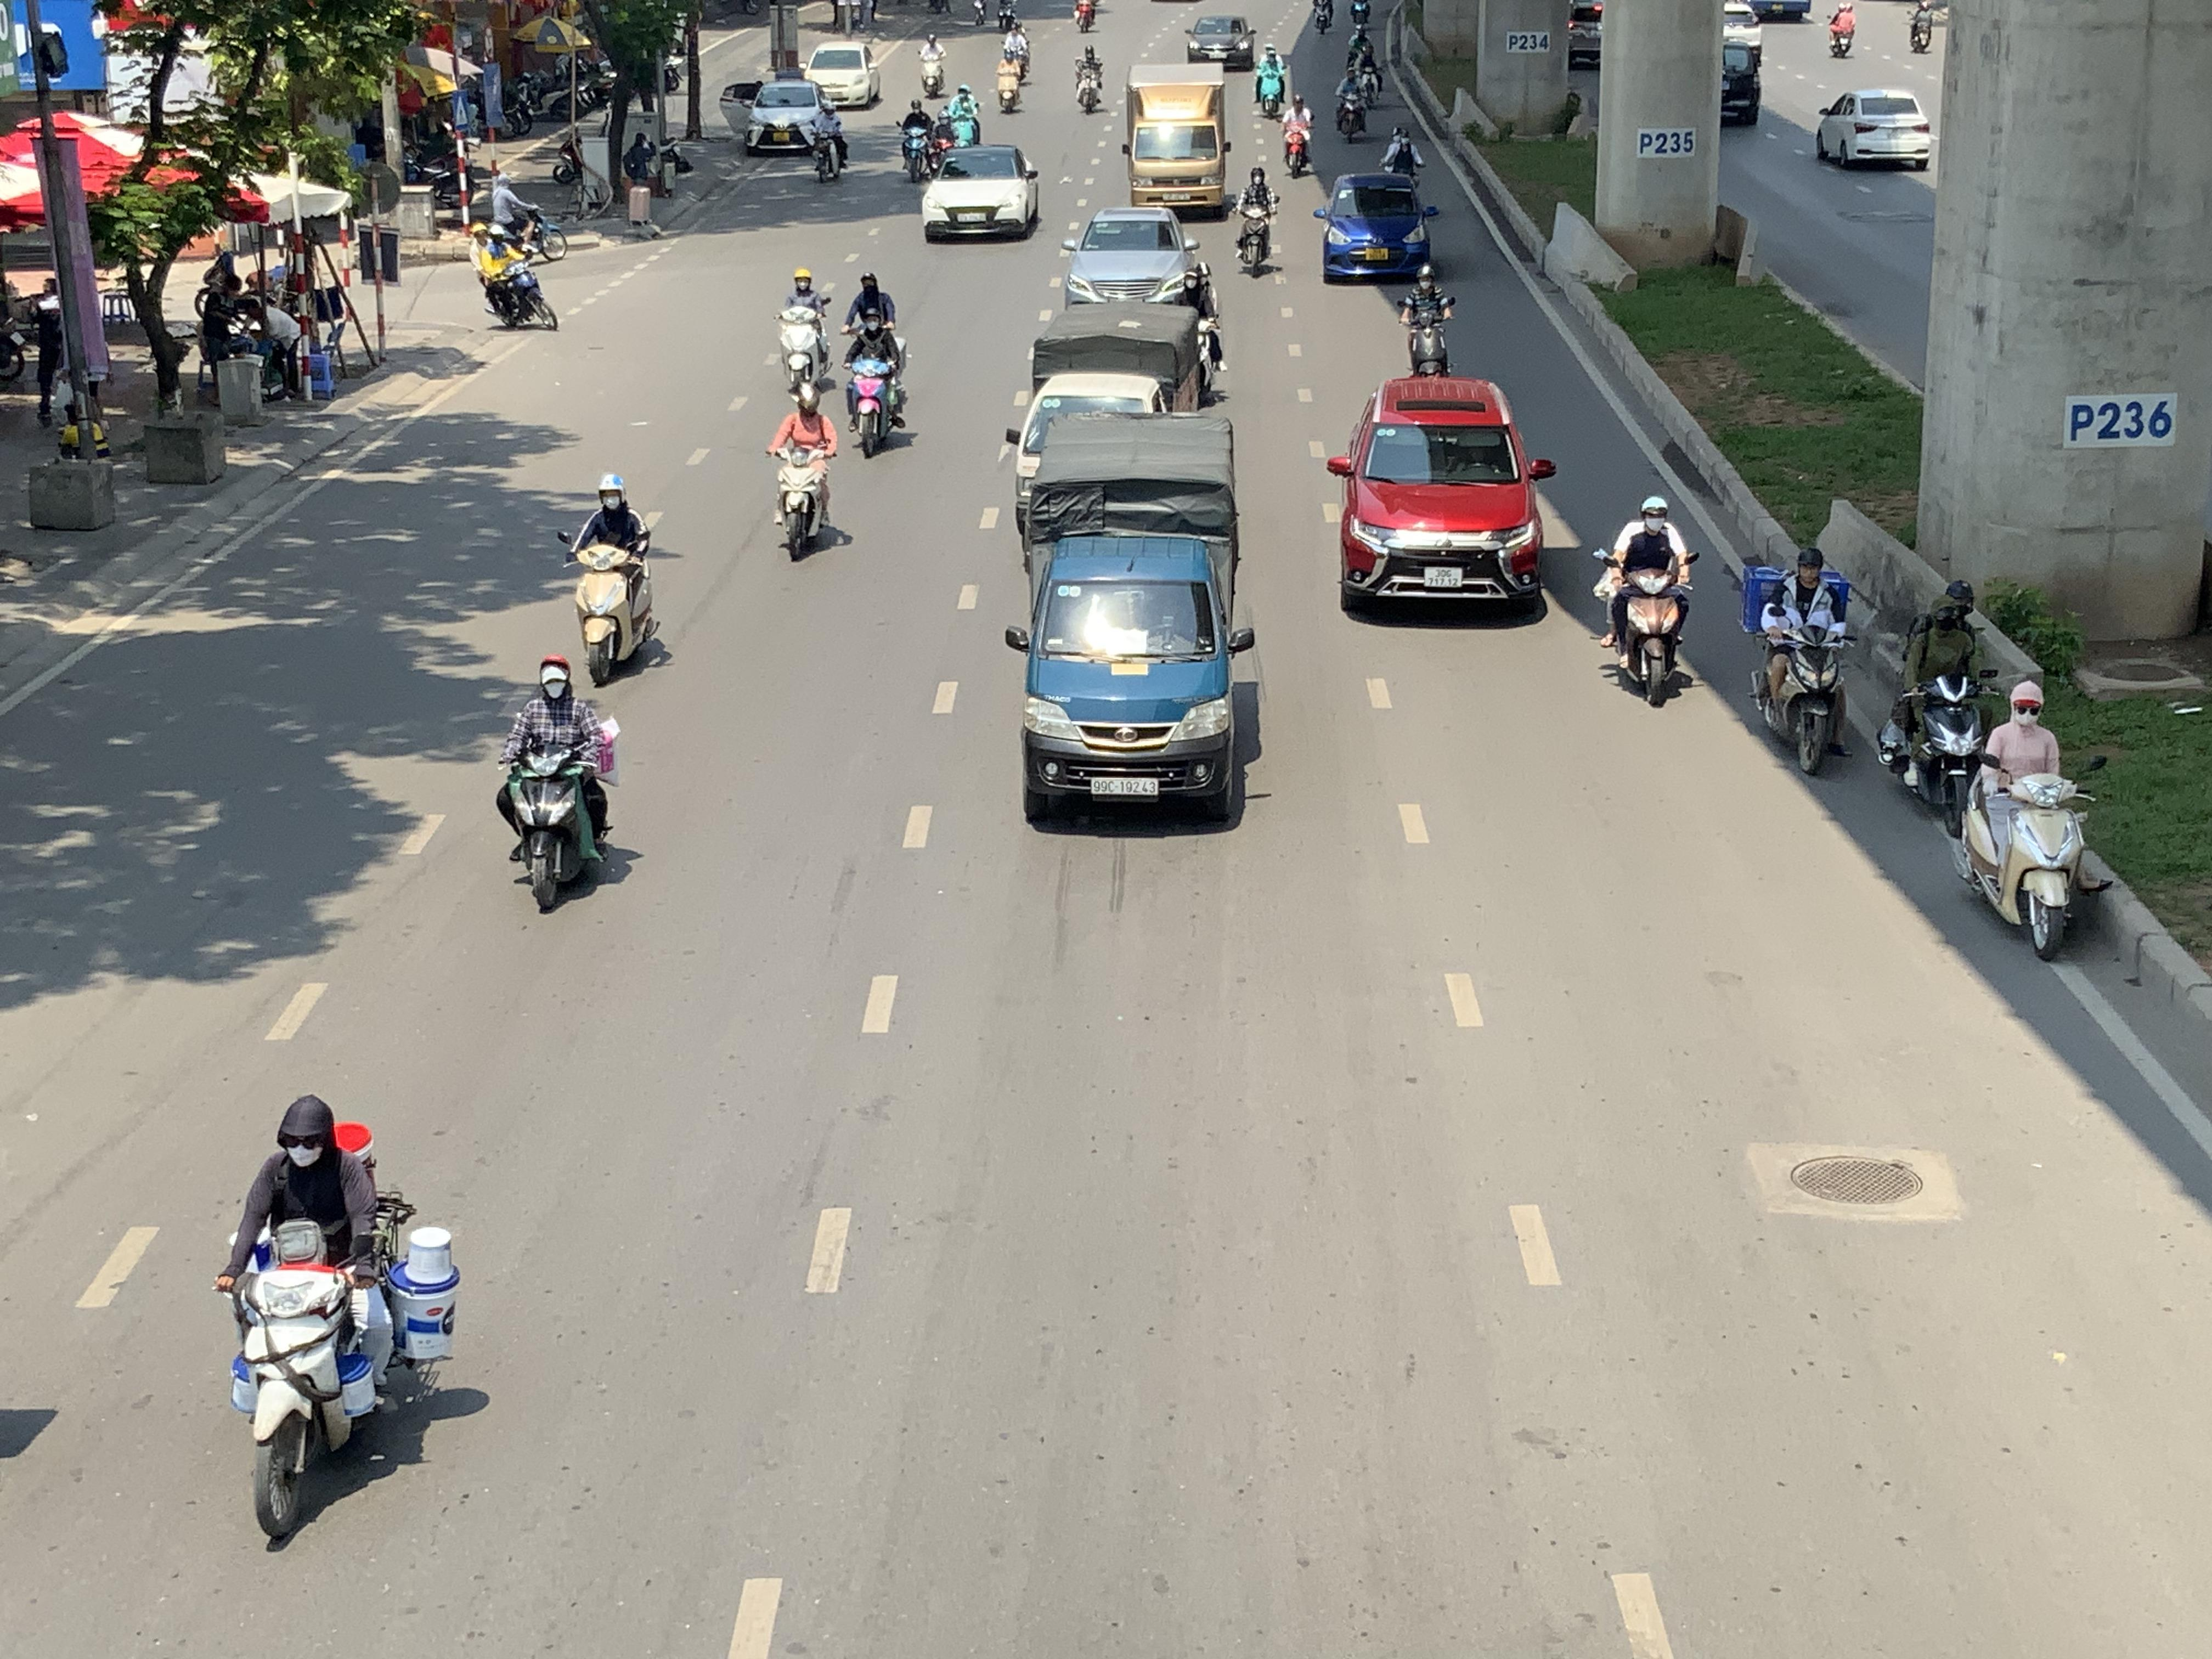BSD: (1092, 777, 1157, 796)
BSV: (1425, 566, 1463, 587)
car: (1324, 375, 1557, 622), (1059, 206, 1207, 310), (1313, 171, 1439, 284), (920, 143, 1042, 242), (1815, 87, 1933, 171), (742, 78, 831, 153), (805, 38, 883, 108), (1184, 14, 1256, 68)
motorbike: (214, 1094, 458, 1549), (1954, 680, 2113, 964), (498, 655, 620, 915), (1879, 580, 1994, 828), (1747, 542, 1853, 775), (566, 474, 667, 687), (1597, 493, 1695, 708), (770, 387, 838, 561), (469, 220, 561, 331), (845, 315, 911, 458), (777, 268, 833, 403), (482, 171, 563, 263), (1395, 263, 1456, 378), (1233, 164, 1284, 279), (843, 272, 900, 361), (810, 98, 850, 181), (1278, 92, 1315, 179), (1332, 63, 1371, 143), (897, 99, 934, 183), (946, 80, 982, 152), (1379, 125, 1425, 183), (995, 40, 1029, 113), (1252, 47, 1287, 120), (1071, 42, 1106, 113), (918, 30, 948, 99), (1827, 0, 1858, 59), (1355, 45, 1383, 105), (1907, 0, 1937, 54), (1071, 0, 1097, 35)
truck: (1003, 410, 1263, 831), (1003, 301, 1204, 523), (1122, 64, 1231, 216)
